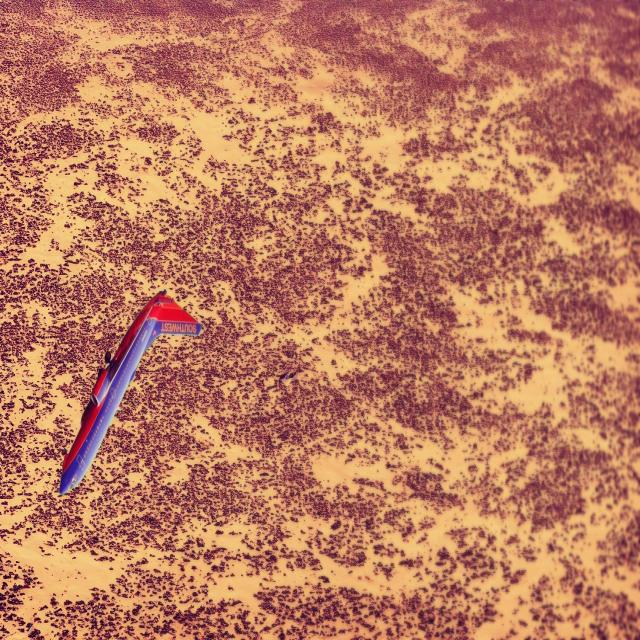airplane: (59, 288, 202, 496)
